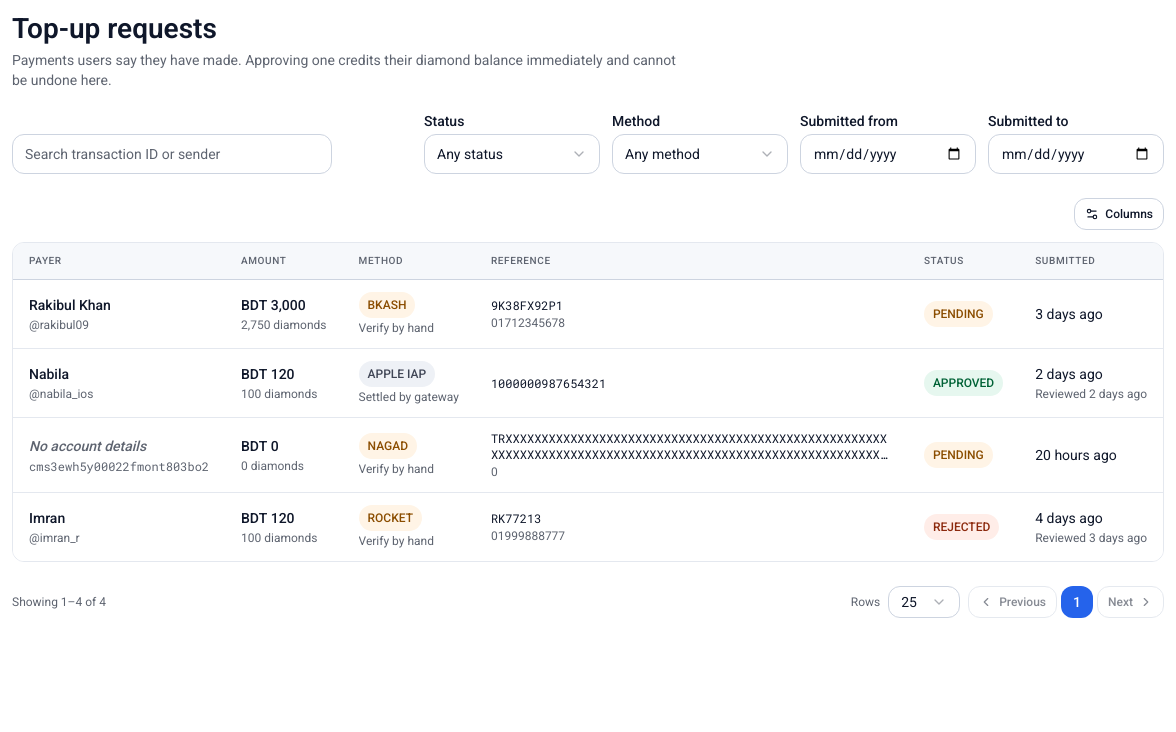
Test: the filters, which the URL owns › offers all seven methods, including the three the guide omits
The image size is (1176, 732).
Expected: the text "Rakibul Khan" is shown, [29, 297, 111, 313]
Click the dropdown labelled "method": (700, 154) [612, 134, 788, 174]
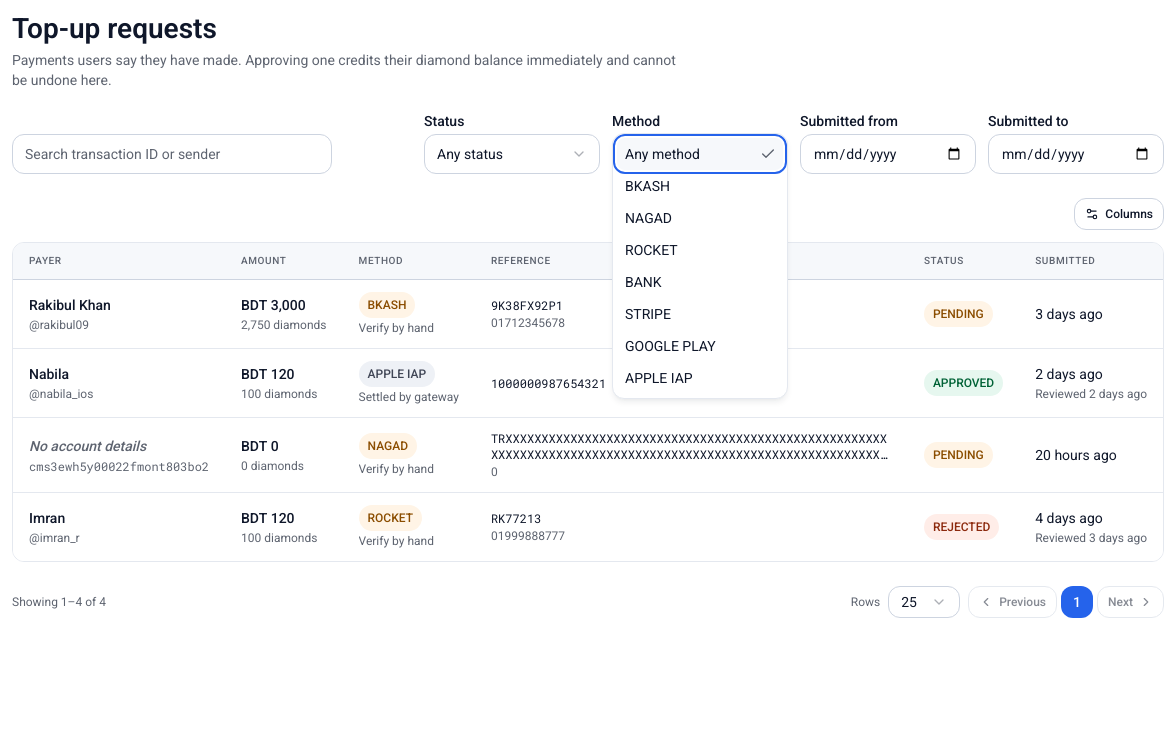
Expected: the option "BKASH" is shown, [625, 178, 670, 194]
Expected: the option "NAGAD" is shown, [625, 210, 672, 226]
Expected: the option "ROCKET" is shown, [625, 242, 678, 258]
